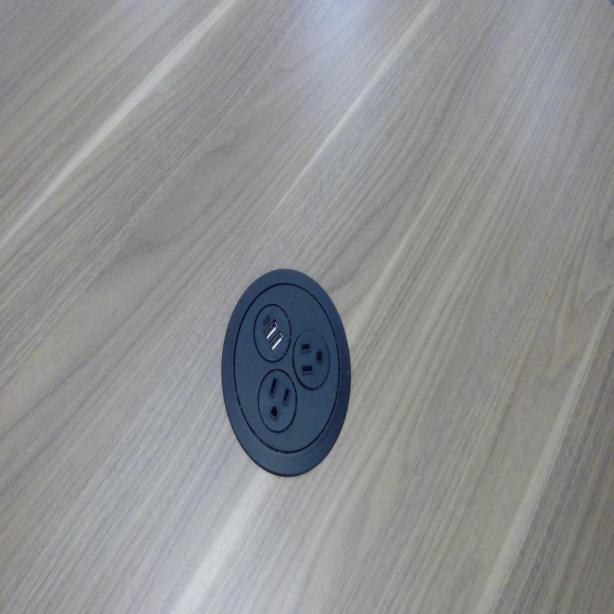typeb: (295, 331, 329, 384), (259, 375, 293, 428)
